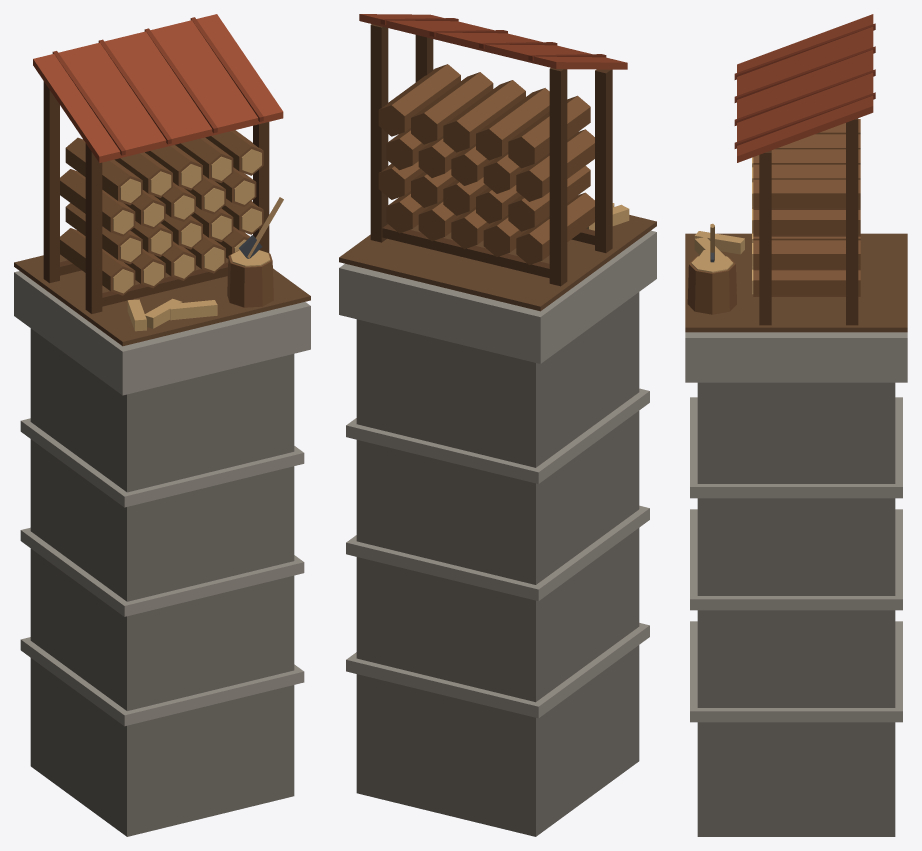
File: decor_firewood_rack.glb
3 views of the same model, side by side, from view 1: azimuth 30°, elevation 25°; view 2: azimuth 150°, elevation 25°; view 3: azimuth 270°, elevation 25° (orthographic). The views are drawn at different scales.
Parts seen in each view (by area): view 1: decor_firewood_rack; view 2: decor_firewood_rack; view 3: decor_firewood_rack.
Boxes of the visible parts, x1,y1,x2,y2 form: decor_firewood_rack: (14,14,310,836); decor_firewood_rack: (339,14,656,836); decor_firewood_rack: (685,14,907,836).
Bounding box in the file's own units: 1.8 × 6.57 × 1.8.
